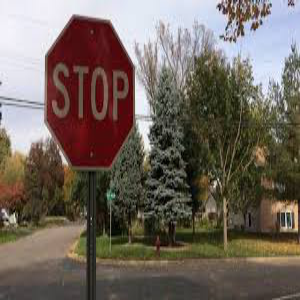STOP_SIGN: (44, 13, 135, 171)
